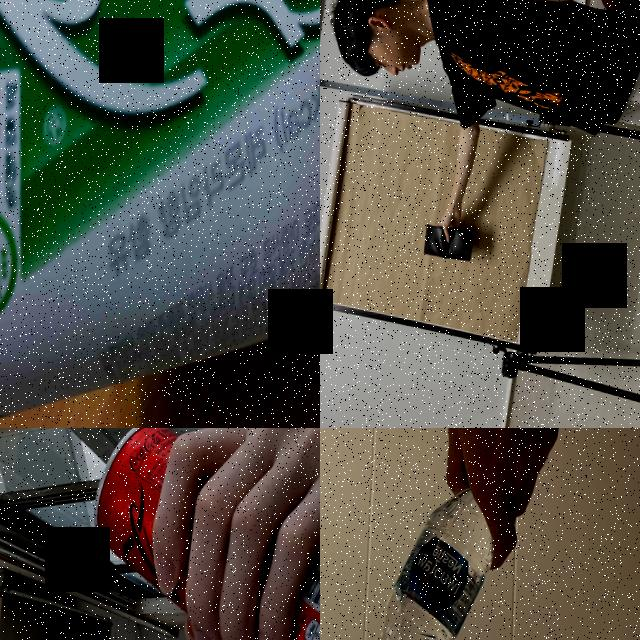bottle: (320, 457, 504, 640)
can: (0, 0, 320, 428), (70, 428, 320, 640)
